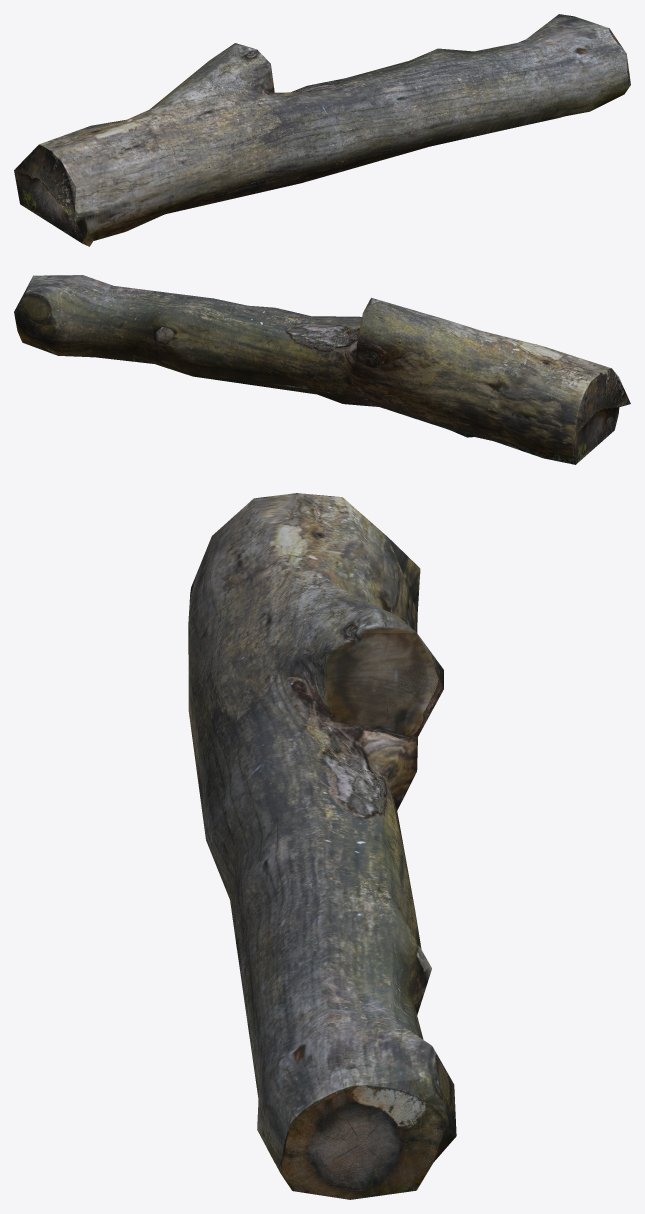
File: wood_10.FBX
The picture shows the model from 3 angles, top to bottom: view 1: azimuth 30°, elevation 25°; view 2: azimuth 150°, elevation 25°; view 3: azimuth 270°, elevation 25°; orthographic projection. The views are drawn at different scales.
Visible parts, largest first — view 1: Group48437; view 2: Group48437; view 3: Group48437.
Boxes of the visible parts, left/top/right/bottom form: Group48437: left=14, top=14, right=630, bottom=246; Group48437: left=14, top=275, right=630, bottom=464; Group48437: left=188, top=493, right=456, bottom=1199.
Size of the model in its own units: 59.68 by 12.37 by 12.52.
1 material, 1 textured.
